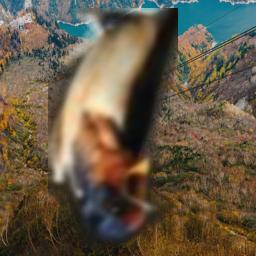Swallow: (48, 8, 178, 249)
